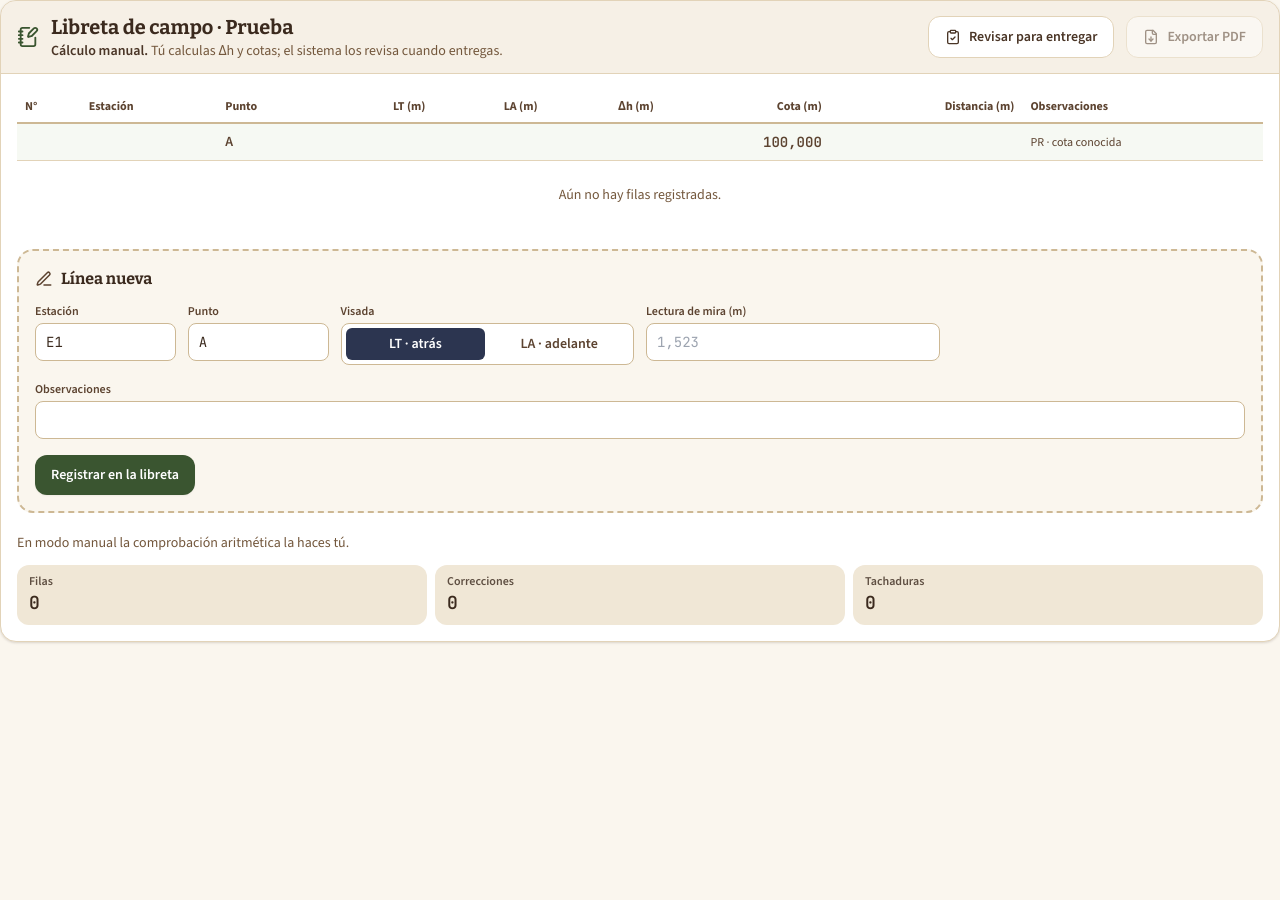
CP-03 · intentar corregir tachando una celda › corregir en línea nueva no cuesta XP y deja ambas filas a la vista
This screenshot has width=1280, height=900.
Type "1,550" into the field labelled "Lectura de mira (m)".
click(793, 342); type("1,550")  # box left=646, top=323, right=940, bottom=361
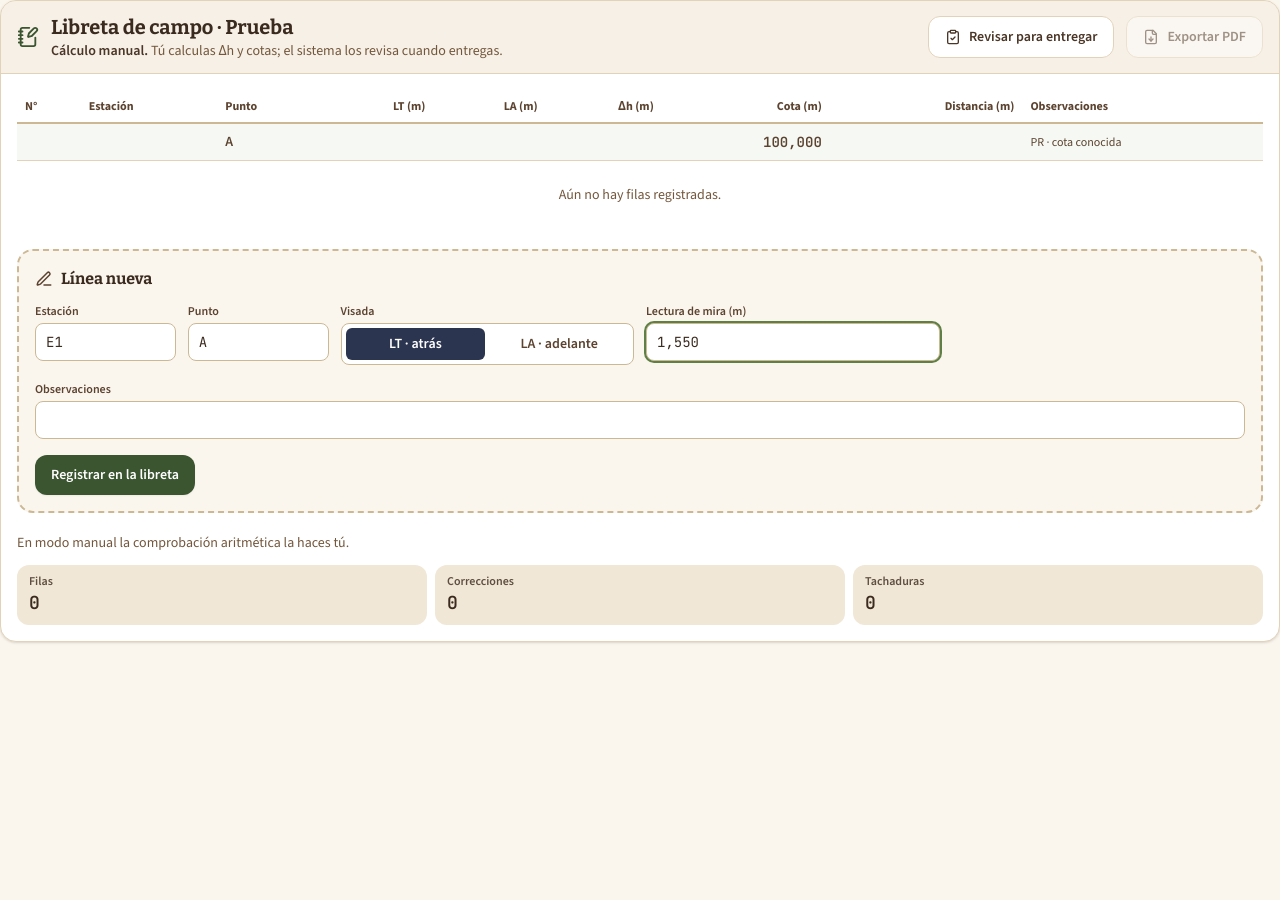
Click the button "Registrar en la libreta".
click(115, 475)  # box left=35, top=455, right=195, bottom=495
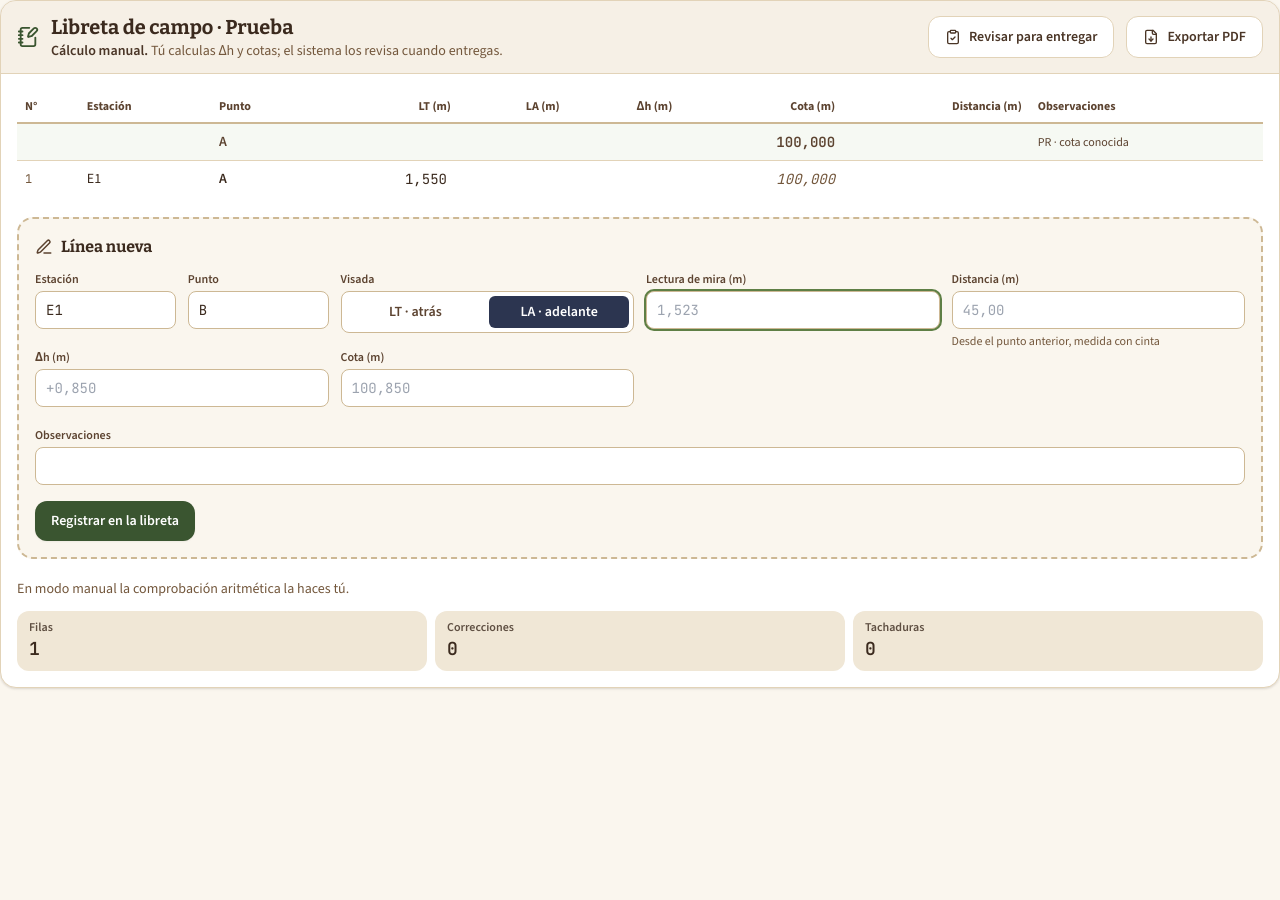
Click the button named "Fila 1, lectura: 1,550. Registrada.".
click(426, 179)  # box left=401, top=169, right=451, bottom=189
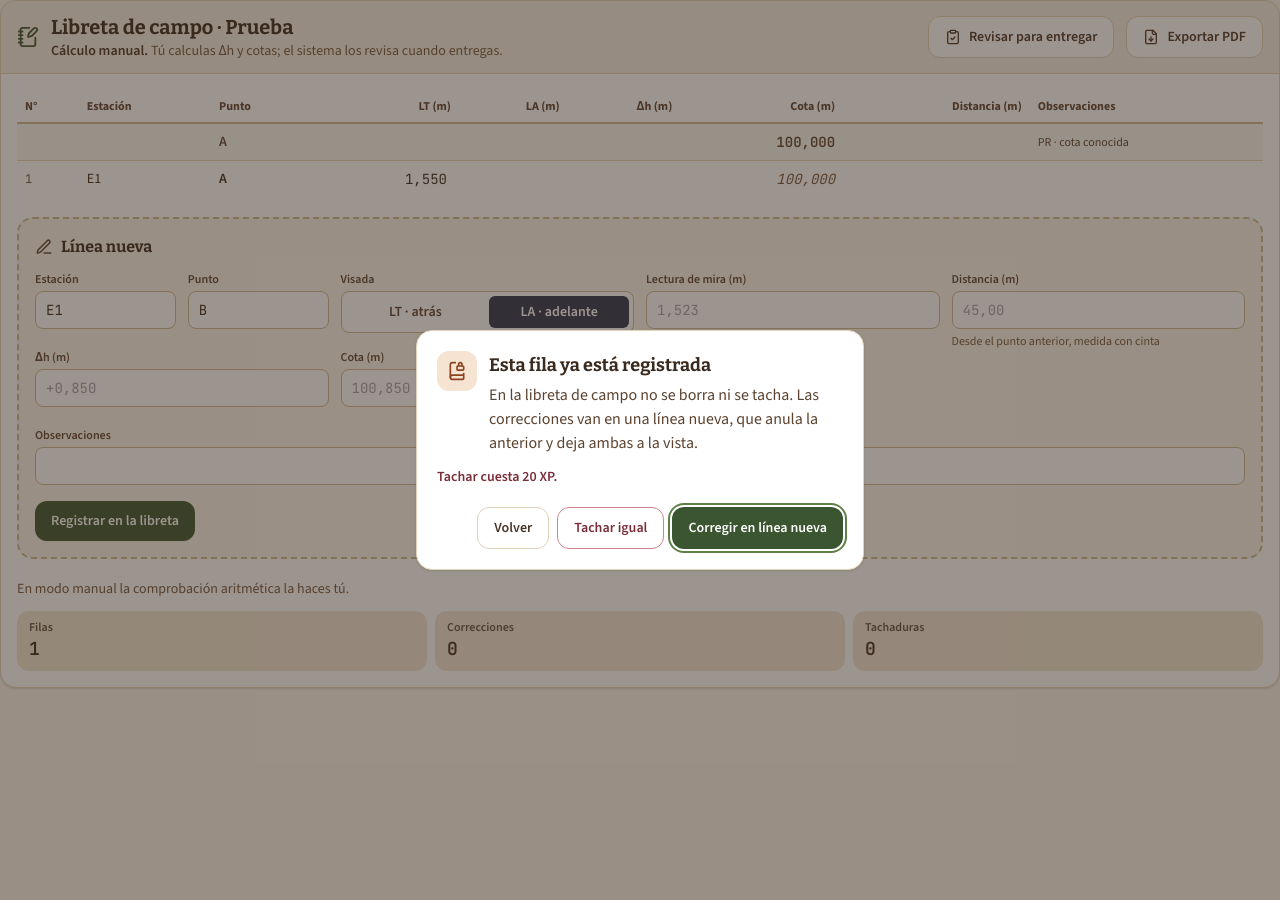
Click the button "Corregir en línea nueva".
click(758, 528)  # box left=672, top=507, right=843, bottom=549
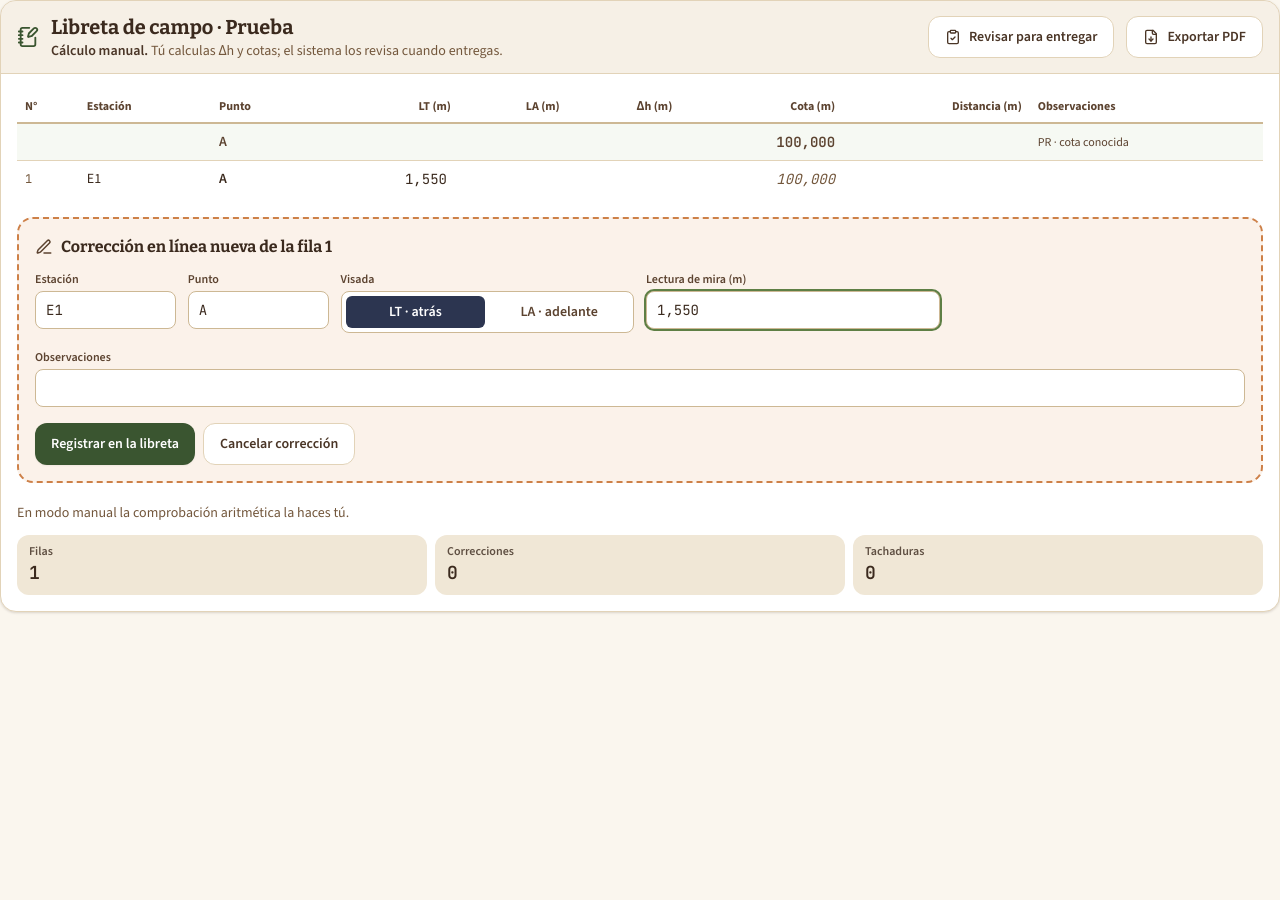
Check: the heading "Corrección en línea nueva de la fila 1" is shown, box left=61, top=235, right=332, bottom=259
Replace the text in the field labelled "Lectura de mira (m)" with "1,500" at (793, 310), box left=646, top=291, right=940, bottom=329
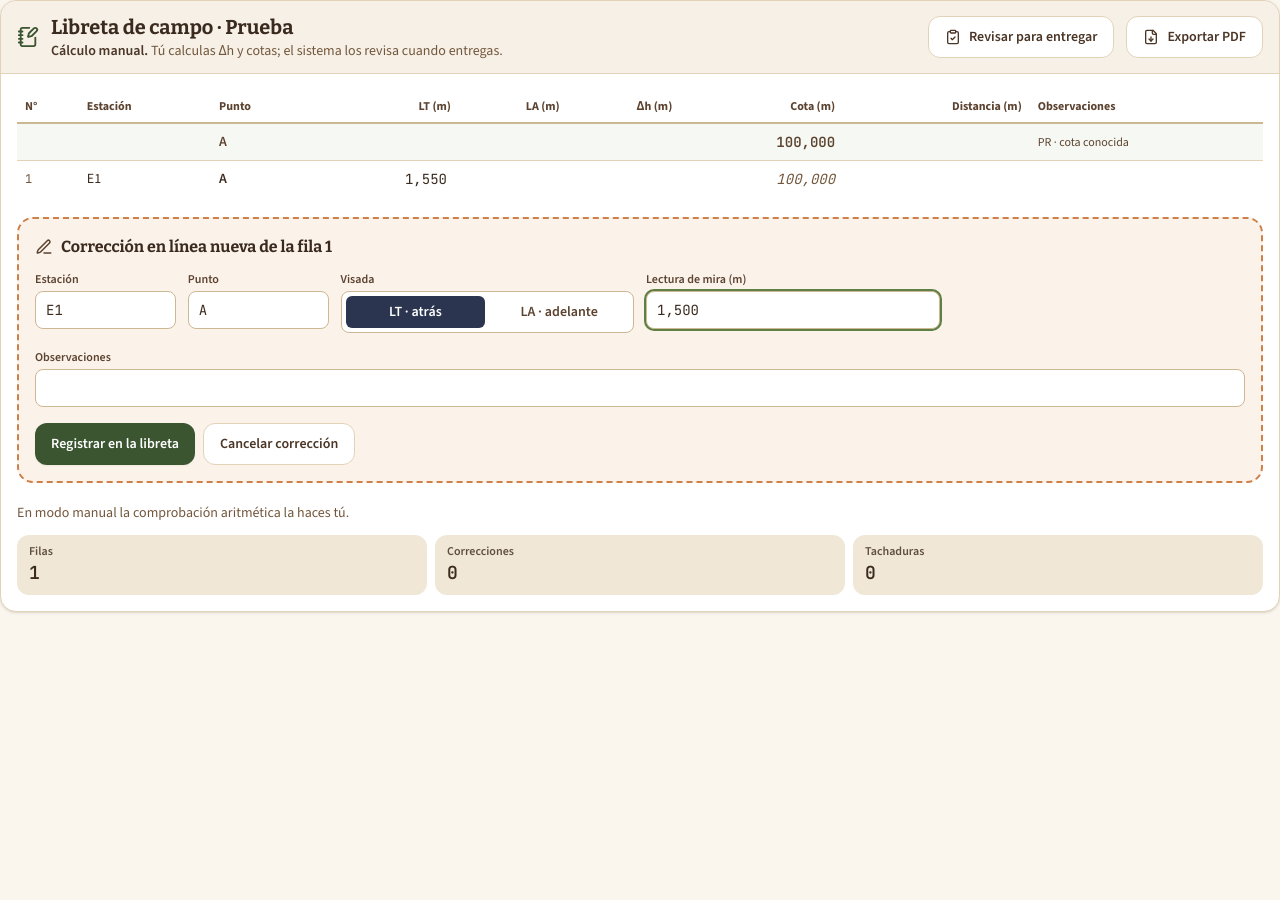
Click the button "Registrar en la libreta".
click(115, 444)  # box left=35, top=423, right=195, bottom=465
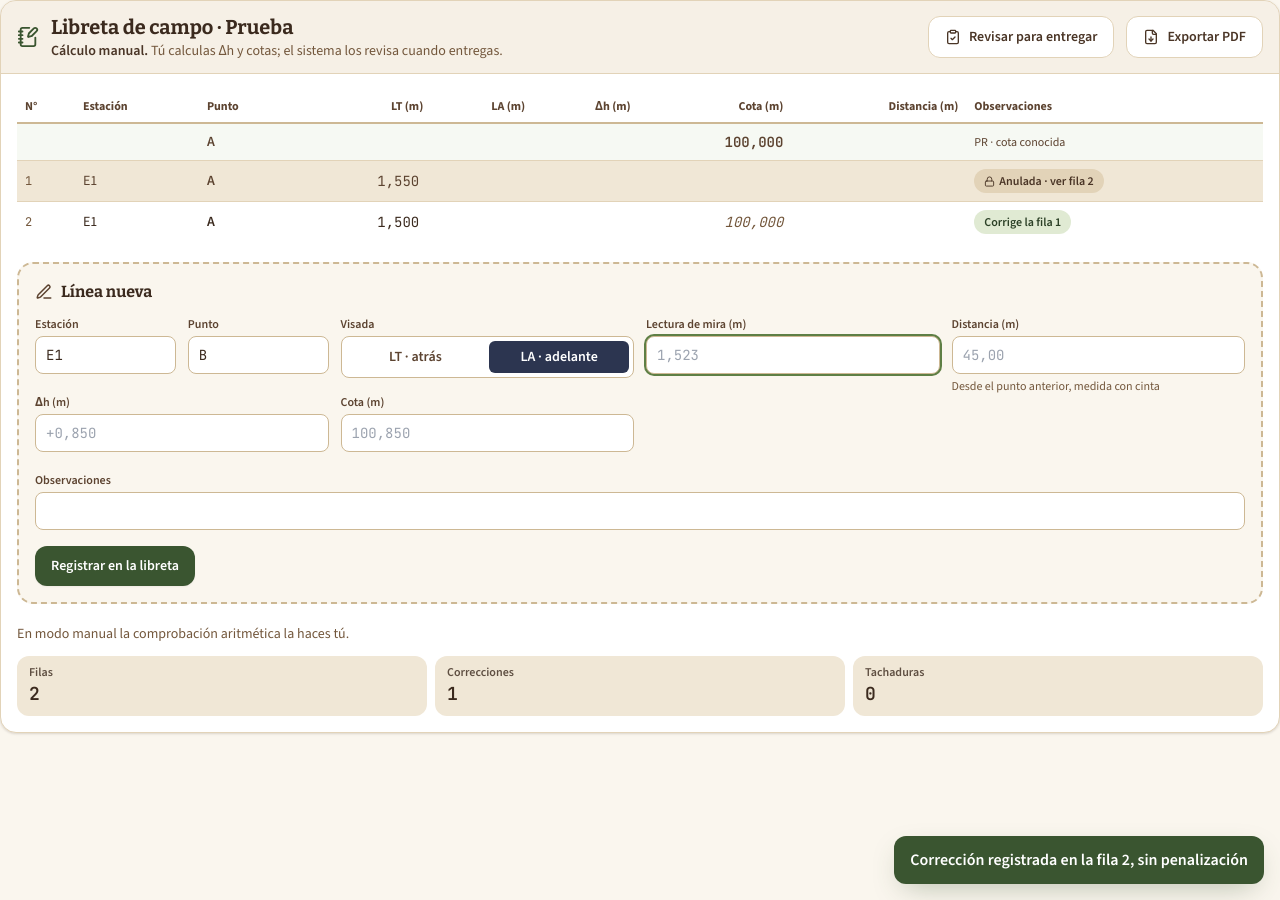
Check: the text "Anulada · ver fila 2" is shown, box left=974, top=169, right=1104, bottom=193
Check: the text "Corrige la fila 1" is shown, box left=974, top=210, right=1071, bottom=234
Check: the text "Corrección registrada en la fila 2, sin penalización" is shown, box left=894, top=836, right=1264, bottom=884
